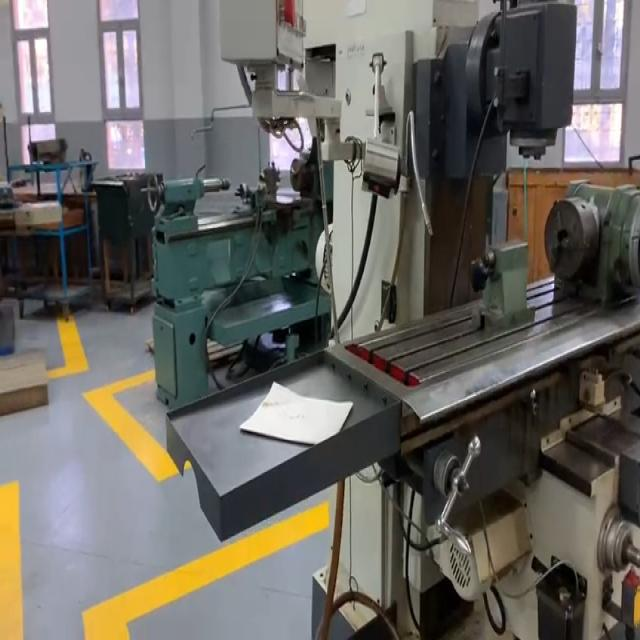fraiseuse: (170, 0, 640, 638)
